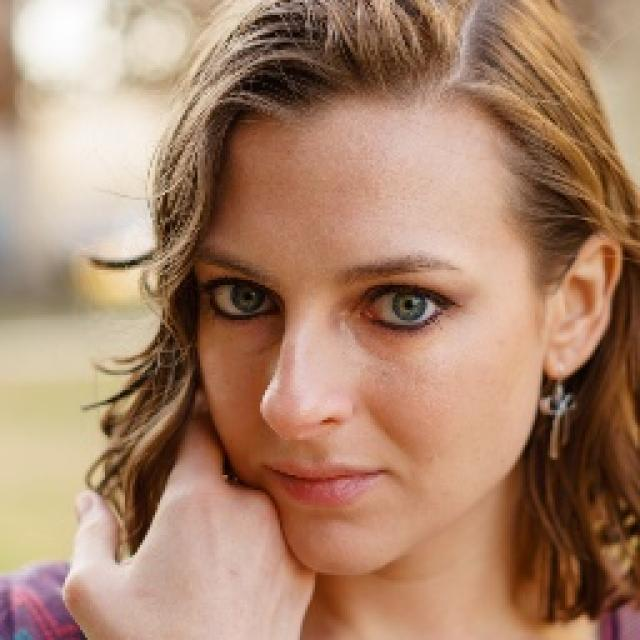earlobe: (540, 344, 586, 384)
eye: (354, 286, 453, 334), (203, 276, 282, 324)
nose: (263, 424, 356, 461)
wholeear: (540, 232, 618, 384)
